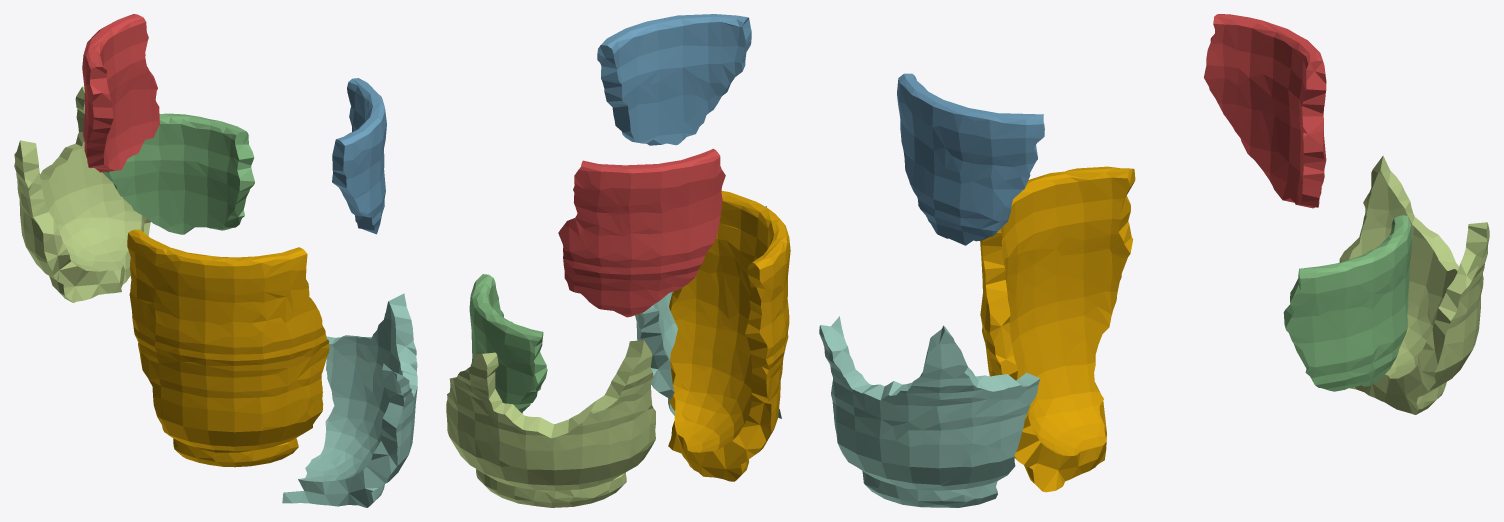
The model's file is mode_6_6pcs_transformed.glb.
3 views of the same model, side by side, from view 1: azimuth 30°, elevation 25°; view 2: azimuth 150°, elevation 25°; view 3: azimuth 270°, elevation 25° (orthographic). The views are drawn at different scales.
Visible parts, largest first — view 1: piece_0.obj, piece_4.obj, piece_5.obj, piece_3.obj, piece_1.obj, piece_2.obj; view 2: piece_0.obj, piece_5.obj, piece_1.obj, piece_2.obj, piece_3.obj, piece_4.obj; view 3: piece_0.obj, piece_4.obj, piece_1.obj, piece_2.obj, piece_5.obj, piece_3.obj.
Boxes of the visible parts, x1,y1,x2,y2 form: piece_0.obj: (127,229,329,467); piece_4.obj: (282,293,417,507); piece_5.obj: (14,86,150,302); piece_3.obj: (102,113,254,234); piece_1.obj: (82,14,159,172); piece_2.obj: (332,78,386,234); piece_0.obj: (668,191,790,481); piece_5.obj: (446,340,655,507); piece_1.obj: (558,148,725,317); piece_2.obj: (597,14,751,145); piece_3.obj: (469,274,547,413); piece_4.obj: (635,206,781,418); piece_0.obj: (980,166,1135,492); piece_4.obj: (819,316,1040,507); piece_1.obj: (1204,14,1326,208); piece_2.obj: (897,73,1044,245); piece_5.obj: (1339,155,1489,414); piece_3.obj: (1283,215,1412,391).
Size of the model in its own units: 0.9237 by 1.6 by 2.36.
